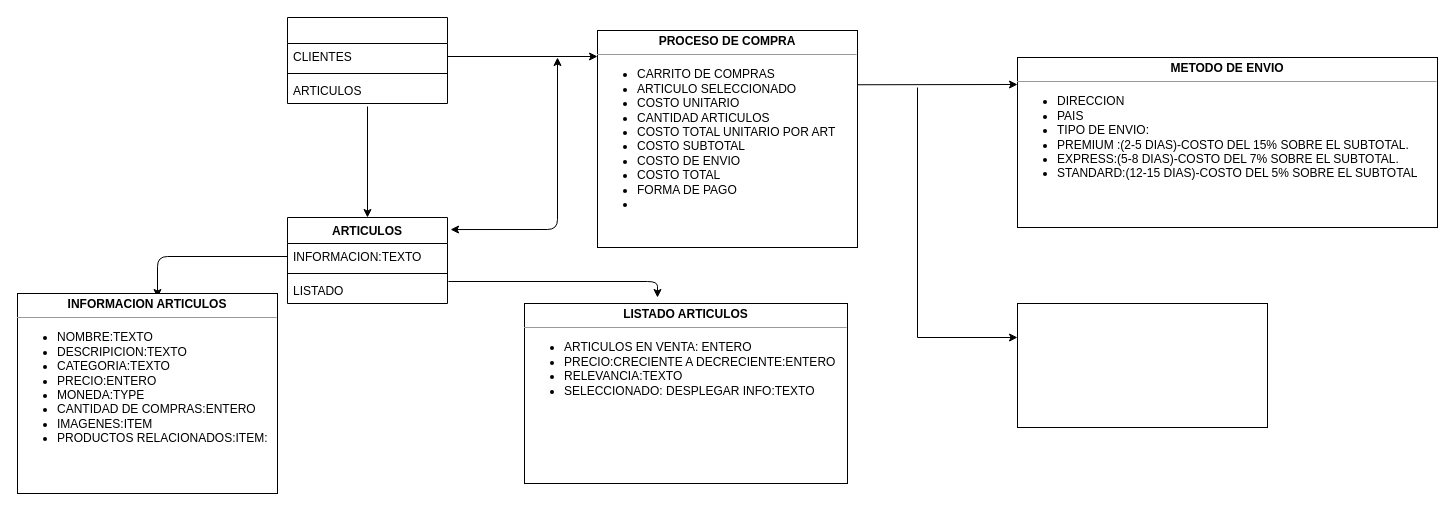
The diagram is 1455 pixels wide and 511 high, and some of its shapes have lost their labels. The box of each missing label's shape, as (x1, y1, x2, y2) in pixels:
E-COMMERCE: (286, 16, 448, 104)
FORMA DE PAGO TARJETA DE CREDITO TRANSFERENCIA BANCARIA: (1016, 302, 1268, 428)
